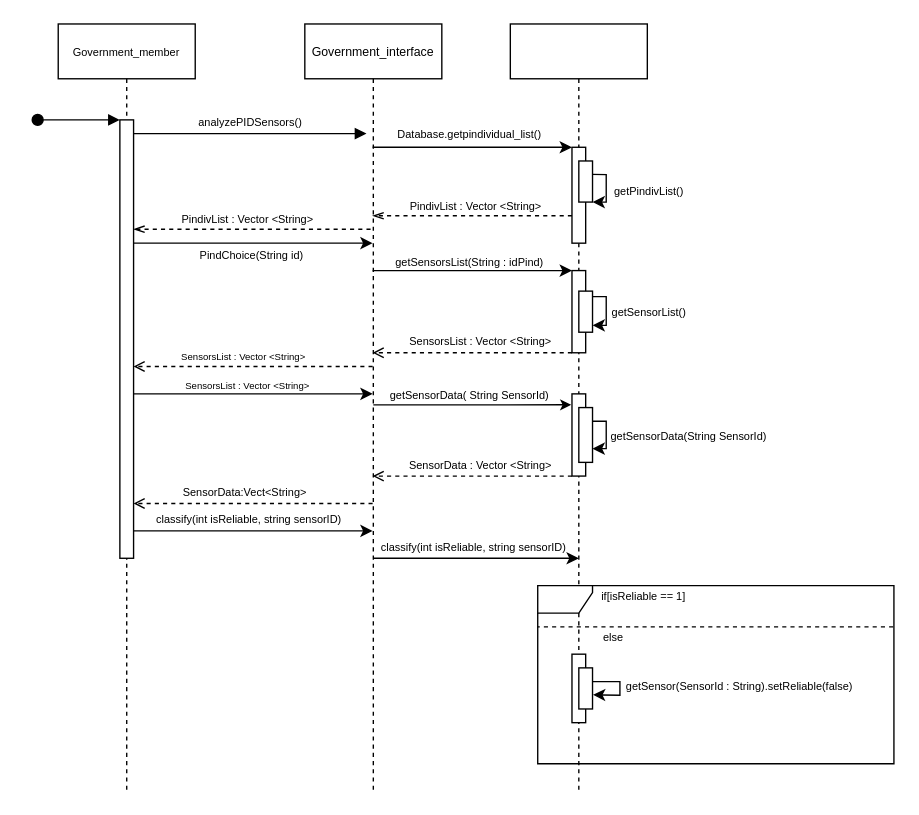
Some shapes in this 919 by 815 pixel diagram are drawn without their labels. Here are the shapes that lost their labels. From the top down, the box of each, then its label:
(509, 23, 647, 791): System
(536, 584, 894, 764): alt
